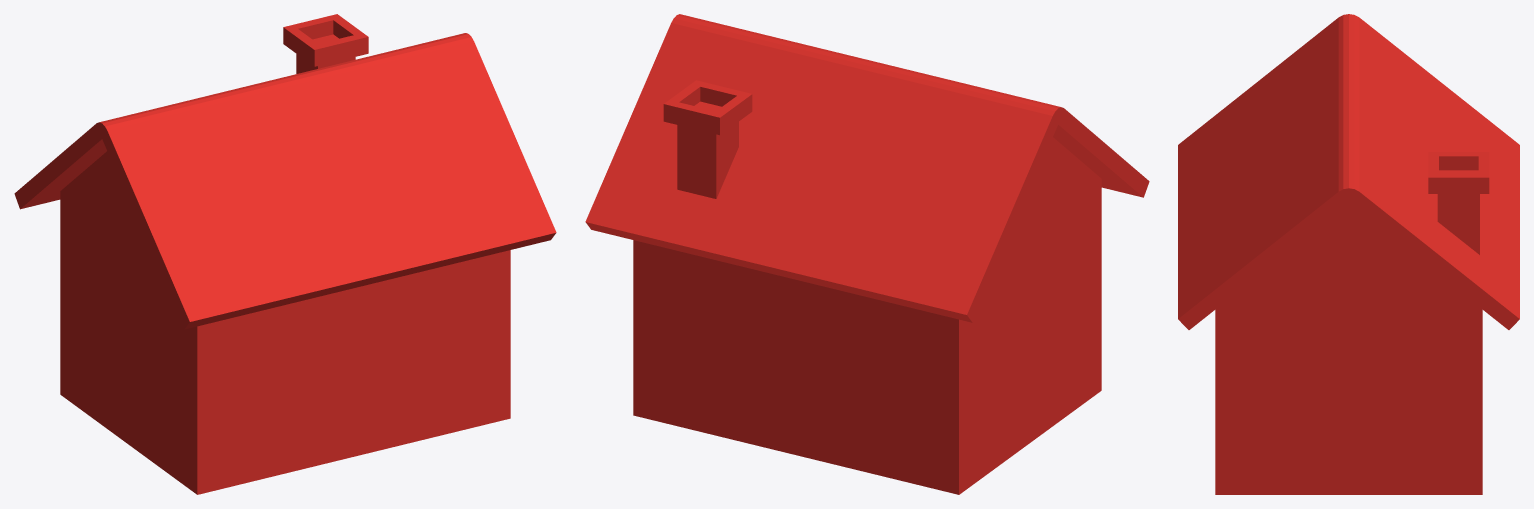
Rendered from Hotel.glb.
3 views of the same model, side by side, from view 1: azimuth 30°, elevation 25°; view 2: azimuth 150°, elevation 25°; view 3: azimuth 270°, elevation 25° (orthographic). The views are drawn at different scales.
Visible parts, largest first — view 1: Cube; view 2: Cube; view 3: Cube.
Part boxes in pixels (left/top/right/bottom): Cube: left=14, top=14, right=556, bottom=494; Cube: left=585, top=14, right=1149, bottom=494; Cube: left=1178, top=14, right=1519, bottom=494.
Bounding box in the file's own units: 2.34 × 2 × 1.94.
